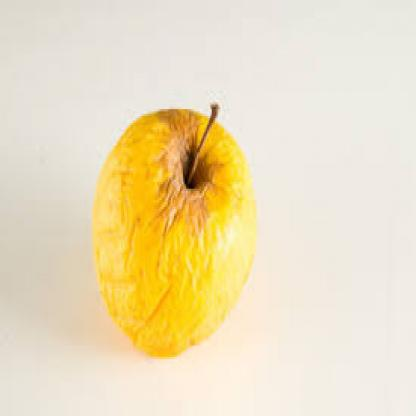damaged_apple: (89, 109, 257, 366)
